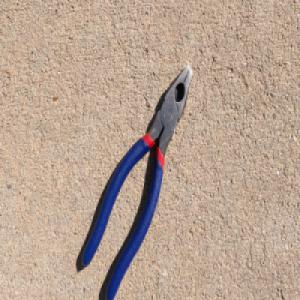Pliers: (79, 60, 194, 300)
